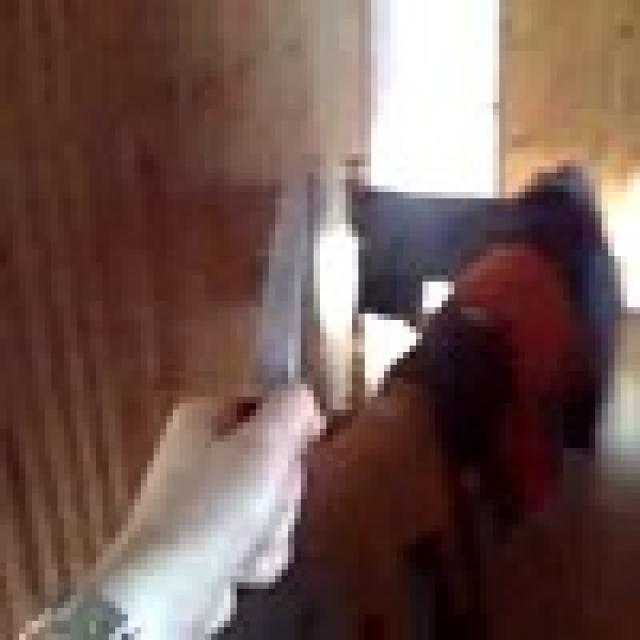Knife_Handle: (147, 157, 314, 586)
